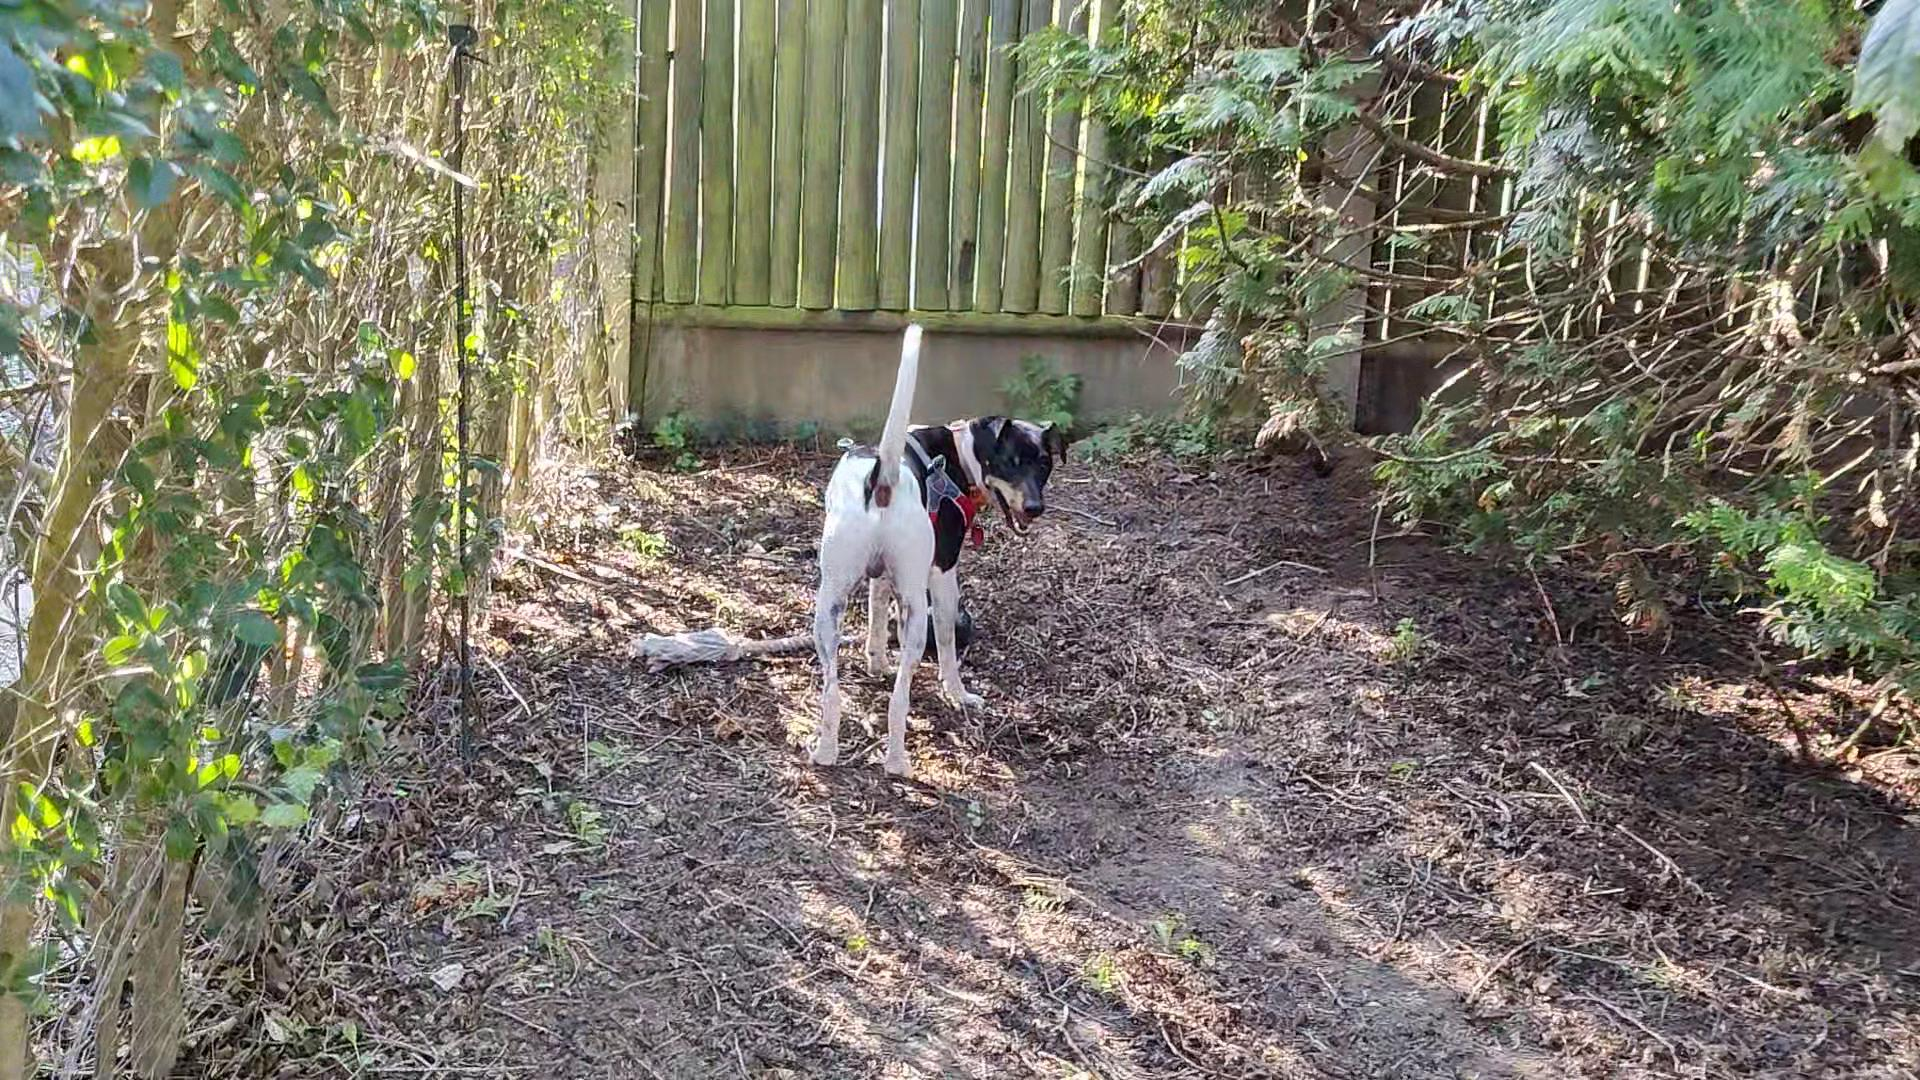Dog: (795, 306, 1077, 791)
